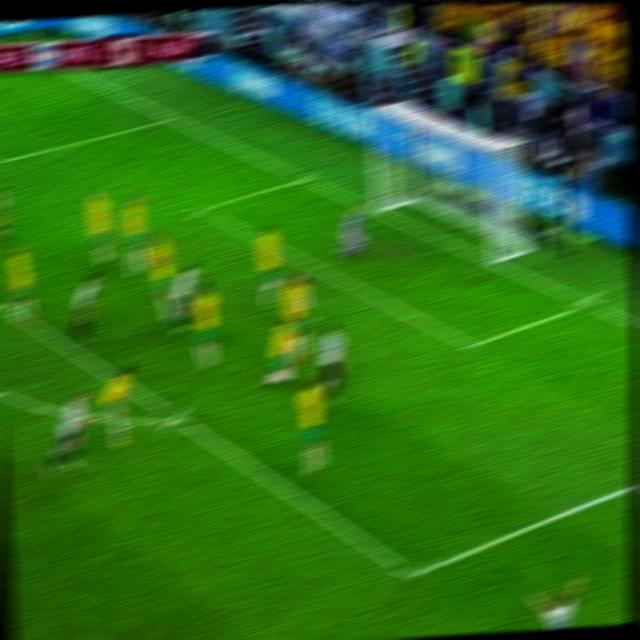bigarea_bottom_inner: (392, 546, 437, 602)
bigarea_top_outter: (158, 105, 186, 131)
bottom_arc_area_intersection: (159, 394, 195, 443)
smallarea_bottom_inner: (454, 323, 489, 365)
smallarea_bottom_outter: (569, 282, 603, 325)
smallarea_top_inner: (187, 191, 217, 227)
smallarea_top_outter: (289, 163, 318, 193)
